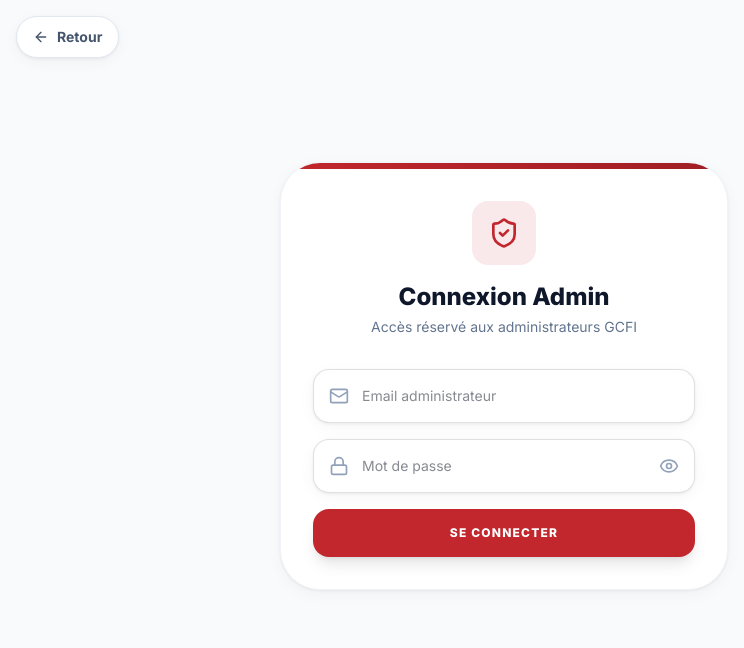
Test: AdminLoginPage — verrouillage après trop d’échecs › n'affiche pas le verrou sur un mot de passe refusé pour une autre raison
In the field with placeholder "Email administrateur": (504, 396) [313,369,695,423], type "admin@gcfi.test"
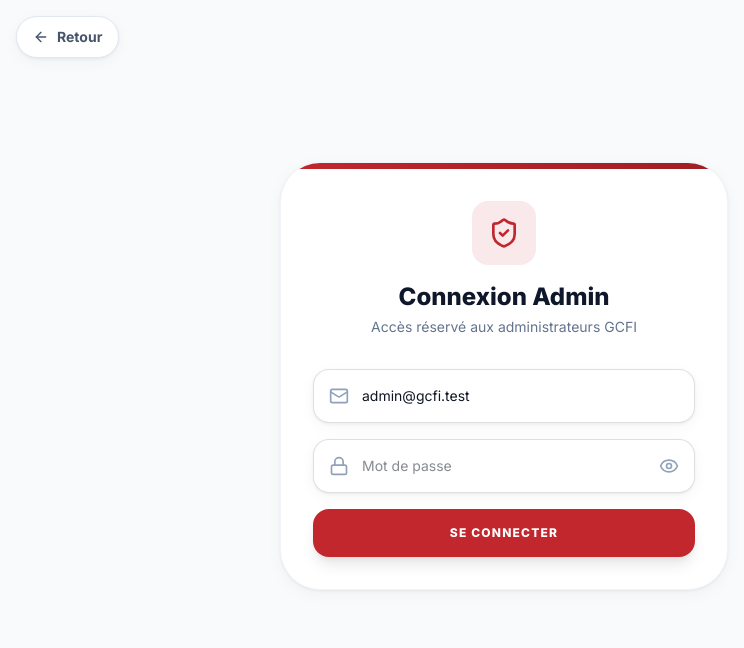
In the password field with placeholder "Mot de passe": (504, 466) [313,439,695,493], type "MauvaisMotDePasse1!"
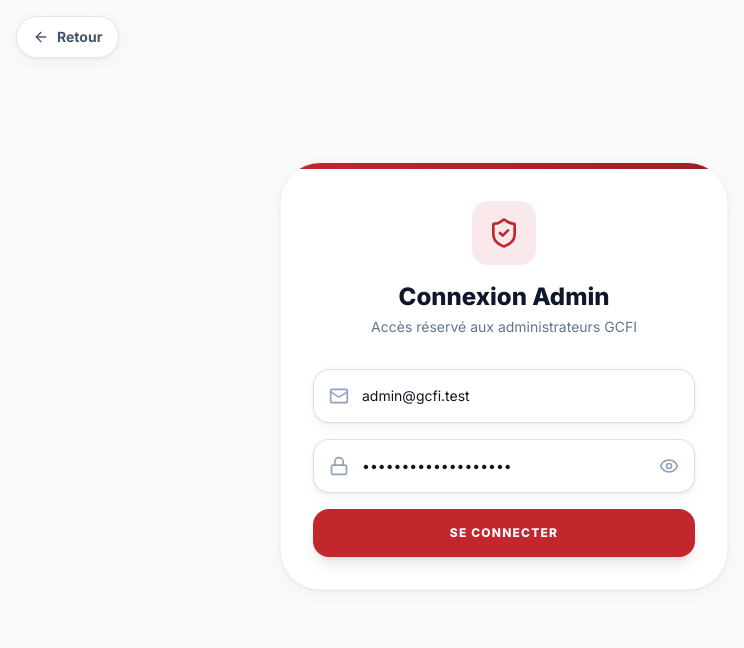
Submit the form, box [313,369,695,557]
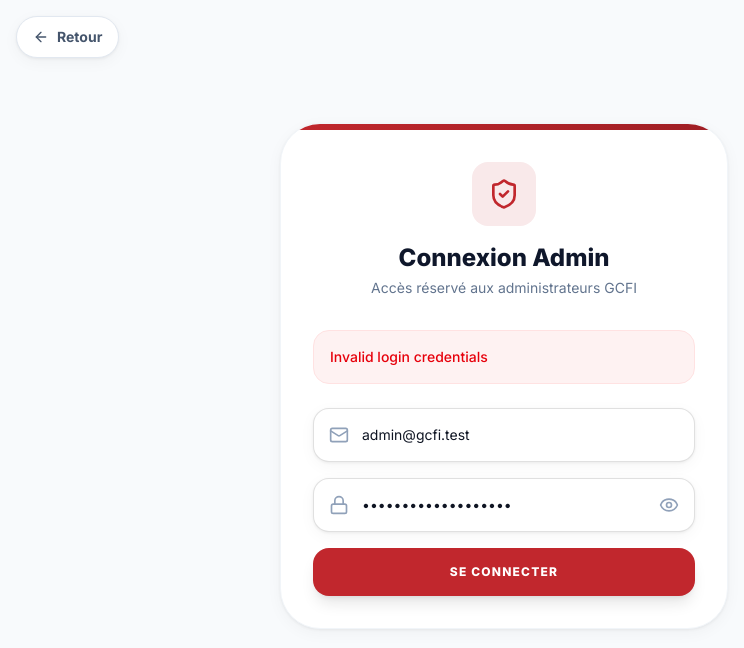
Expected: the submit button is enabled, [313,548,695,596]
Expected: the text "Invalid login credentials" is shown, [313,330,695,384]
